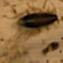cockroach: (17, 11, 58, 29)
